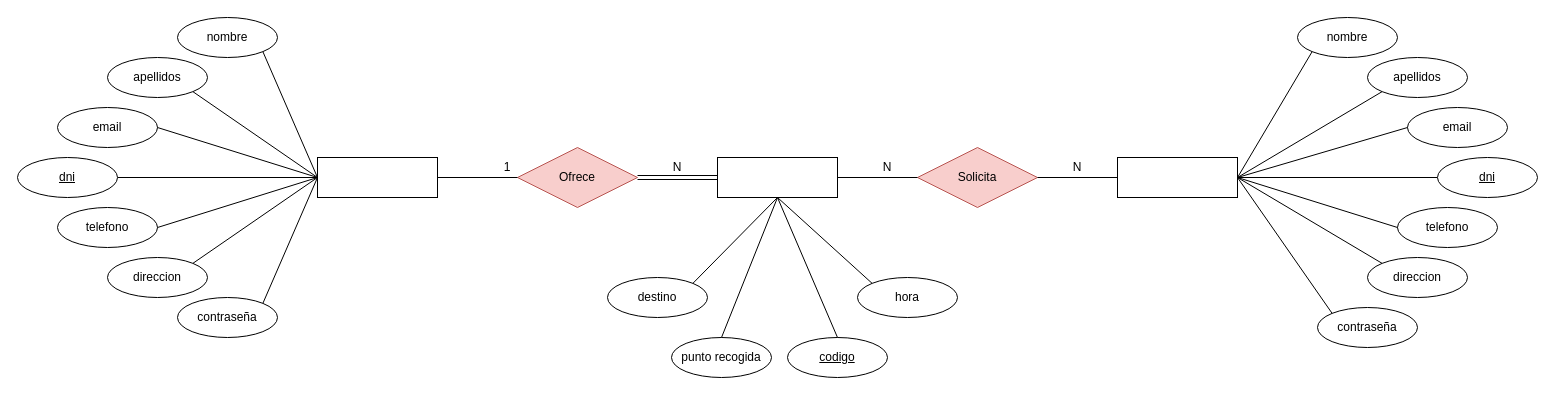
The diagram is 1555 pixels wide and 395 high, and some of its shapes have lost their labels. Here are the shapes that lost their labels. From the top down, the centre of each, then its label:
the point at 377,177: Ayudante
the point at 777,177: Servicios
the point at 1177,177: Clientes
